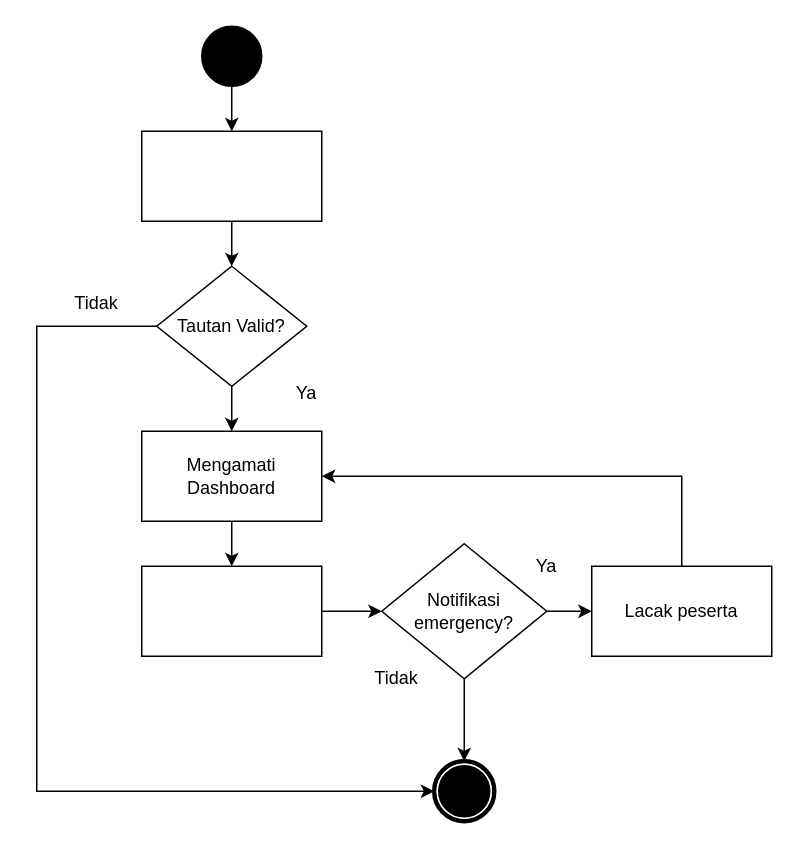
The diagram is 798 pixels wide and 848 high, and some of its shapes have lost their labels. Here are the shapes that lost their labels. From the top down, the centre of each, then its label:
the point at 231,175: Terima tautan undangan
the point at 231,610: Melihat menu manajemen
